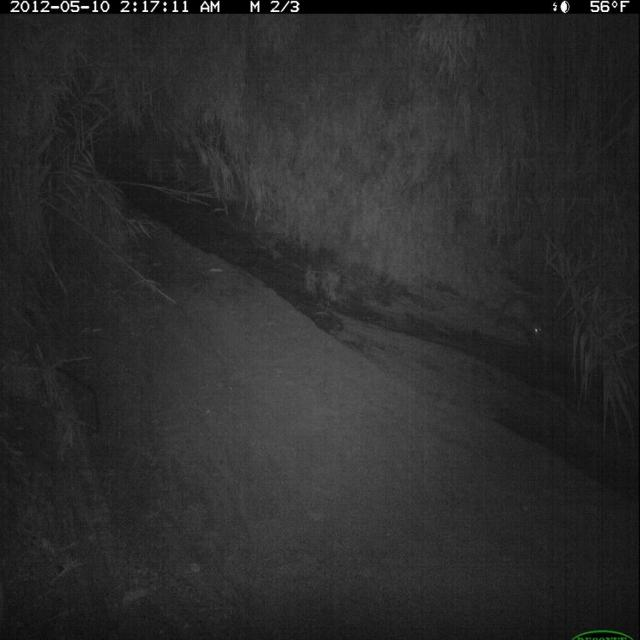opossum: (480, 290, 549, 350)
